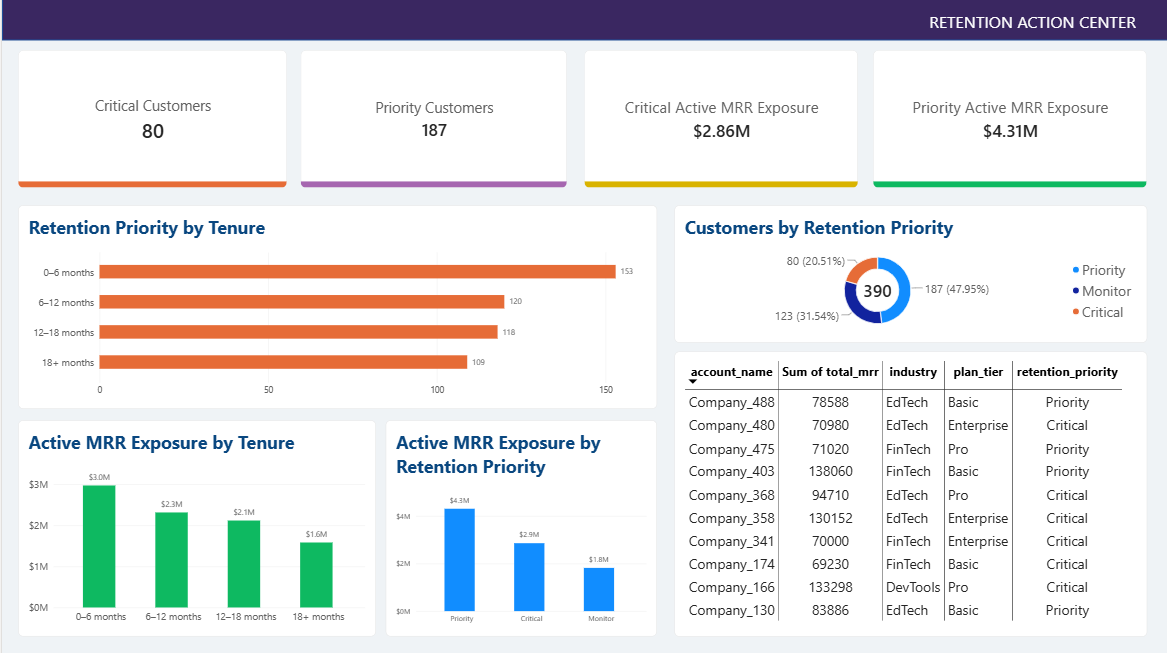

This screenshot's page, from the dashboard's own definition file:
{"tool":"powerbi","page":{"name":"Retention Action Center","canvas":[1920,1080],"ordinal":4},"visuals":[{"type":"cardVisual","fields":{"Data":["customer_analytics.Critical Customers"]},"box":[26.8,84.4,442.5,226.4],"z":0},{"type":"cardVisual","fields":{"Data":["customer_analytics.Critical Active MRR Exposure"]},"box":[959.2,84.4,450.8,226.4],"z":1},{"type":"cardVisual","fields":{"Data":["customer_analytics.Priority Active MRR Exposure"]},"box":[1434.7,84.4,450.8,226.4],"z":2},{"type":"cardVisual","fields":{"Data":["customer_analytics.Priority Customers"]},"box":[491.9,84.4,438.4,226.4],"z":3},{"type":"donutChart","title":"Customers by Retention Priority","fields":{"Category":["customer_analytics.retention_priority"],"Y":["CountNonNull(customer_analytics.account_id)"]},"box":[1107.4,339.6,778,226.4],"z":4},{"type":"clusteredColumnChart","title":"Active MRR Exposure by Retention Priority","fields":{"Category":["customer_analytics.retention_priority"],"Y":["customer_analytics.Customer Total MRR"]},"box":[631.9,693.7,446.7,356.1],"z":5},{"type":"shape","box":[0,0,1920.4,68],"z":7},{"type":"textbox","box":[0,0,1920.4,67.9],"z":8},{"type":"tableEx","fields":{"Values":["customer_analytics.account_name","Sum(customer_analytics.total_mrr)","customer_analytics.industry","customer_analytics.plan_tier","customer_analytics.retention_priority"]},"box":[1107.4,580.4,778,469.3],"z":10},{"type":"barChart","title":"Retention Priority by Tenure","fields":{"Category":["customer_analytics.Tenure Bucket"],"Y":["CountNonNull(customer_analytics.retention_priority)"]},"box":[26.8,339.6,1051.8,335.5],"z":11},{"type":"clusteredColumnChart","title":"Active MRR Exposure by Tenure","fields":{"Category":["customer_analytics.Tenure Bucket"],"Y":["customer_analytics.Active Customer MRR"]},"box":[26.8,693.7,588.7,356.1],"z":12}]}

Visuals, with their boxes in screenshot pixels (x1, y1, x2, y2), scaled from the page's 1920x1080 canvas onto the 1167x653 screenshot:
cardVisual - customer_analytics.Critical Customers: box=[16, 51, 285, 188]
cardVisual - customer_analytics.Critical Active MRR Exposure: box=[583, 51, 857, 188]
cardVisual - customer_analytics.Priority Active MRR Exposure: box=[872, 51, 1146, 188]
cardVisual - customer_analytics.Priority Customers: box=[299, 51, 565, 188]
"Customers by Retention Priority" donutChart: box=[673, 205, 1146, 342]
"Active MRR Exposure by Retention Priority" clusteredColumnChart: box=[384, 419, 656, 635]
shape: box=[0, 0, 1166, 41]
textbox: box=[0, 0, 1166, 41]
tableEx - customer_analytics.account_name x Sum(customer_analytics.total_mrr): box=[673, 351, 1146, 635]
"Retention Priority by Tenure" barChart: box=[16, 205, 656, 408]
"Active MRR Exposure by Tenure" clusteredColumnChart: box=[16, 419, 374, 635]
